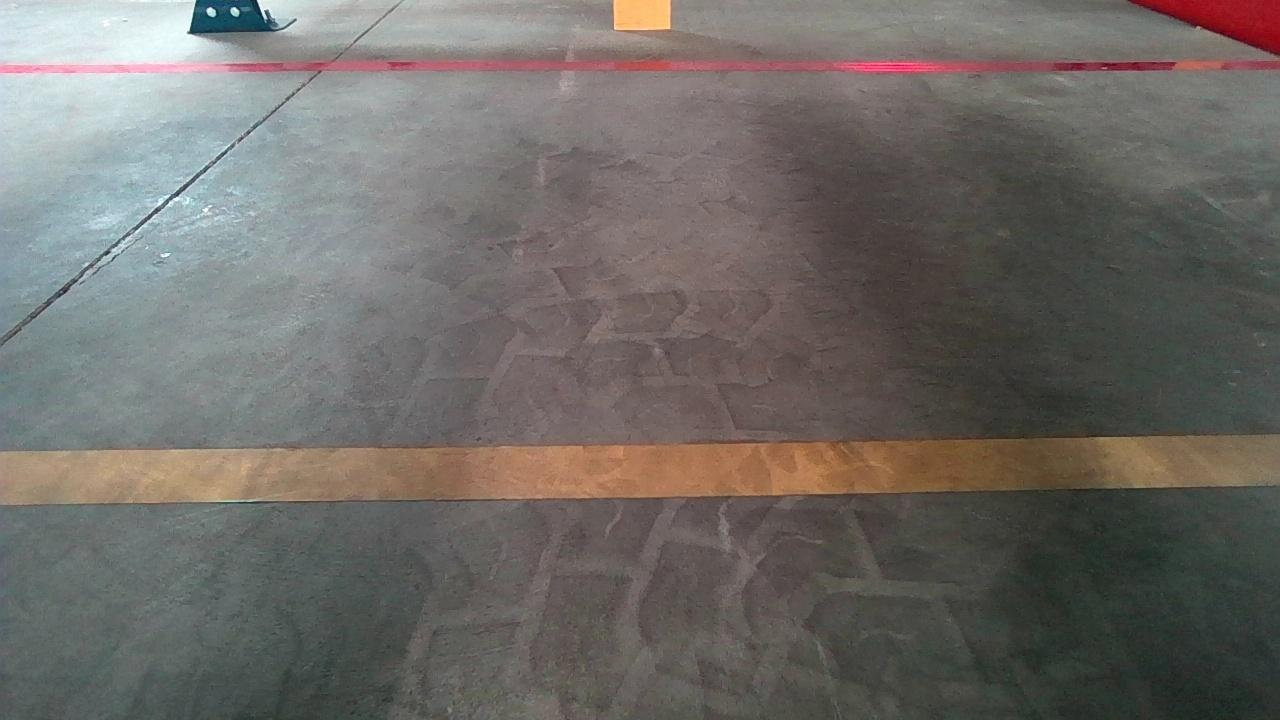orange_strip: (612, 0, 673, 31)
red_line: (2, 51, 1278, 82)
